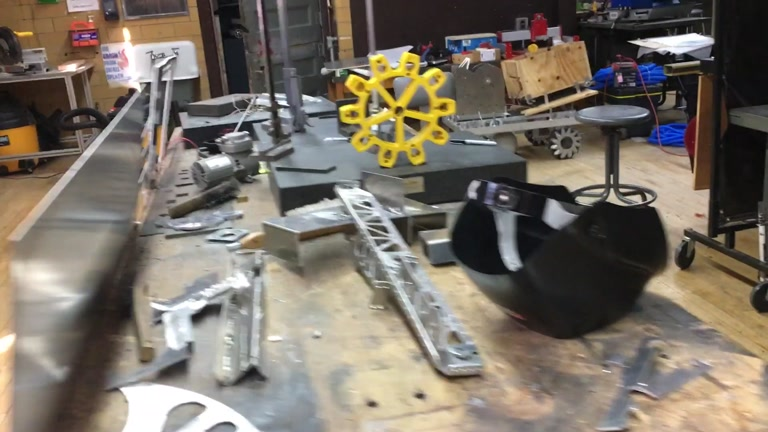gear: (338, 51, 457, 169)
